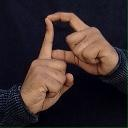hand: (19, 17, 74, 114), (47, 11, 119, 76)
